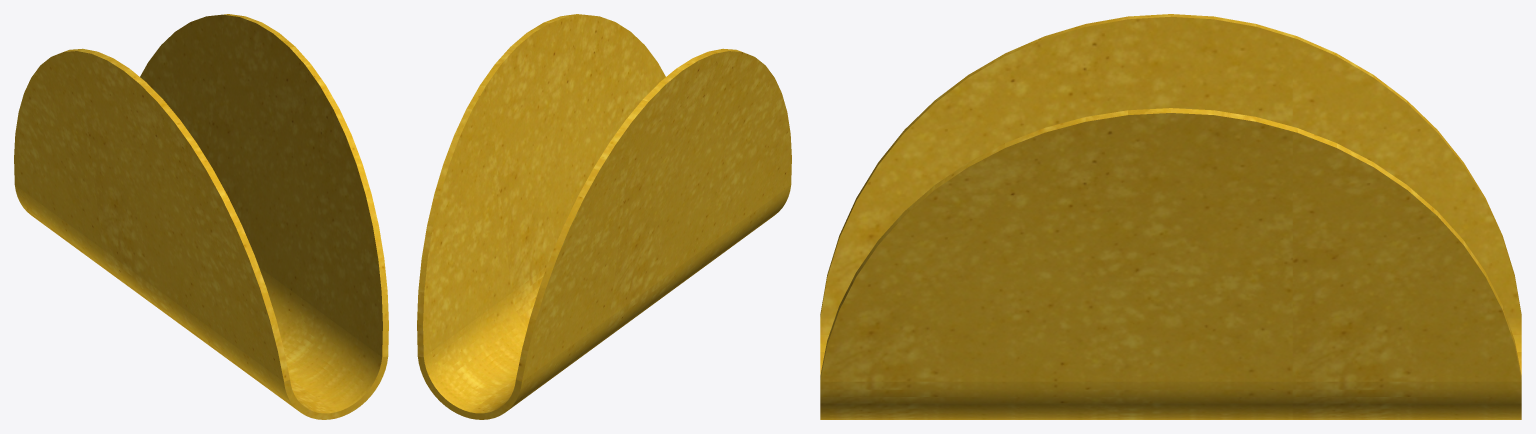
File: tacoshell.dae
3 renders of one model, left to right at view 1: azimuth 30°, elevation 25°; view 2: azimuth 150°, elevation 25°; view 3: azimuth 270°, elevation 25°, orthographic. The views are drawn at different scales.
Parts seen in each view (by area): view 1: ID3; view 2: ID3; view 3: ID3.
Boxes of the visible parts, x1,y1,x2,y2 form: ID3: (14,14,388,419); ID3: (417,14,791,419); ID3: (820,14,1521,419).
Size of the model in its own units: 1.58 by 4.75 by 2.61.
Materials: 1 (1 with a texture image).
